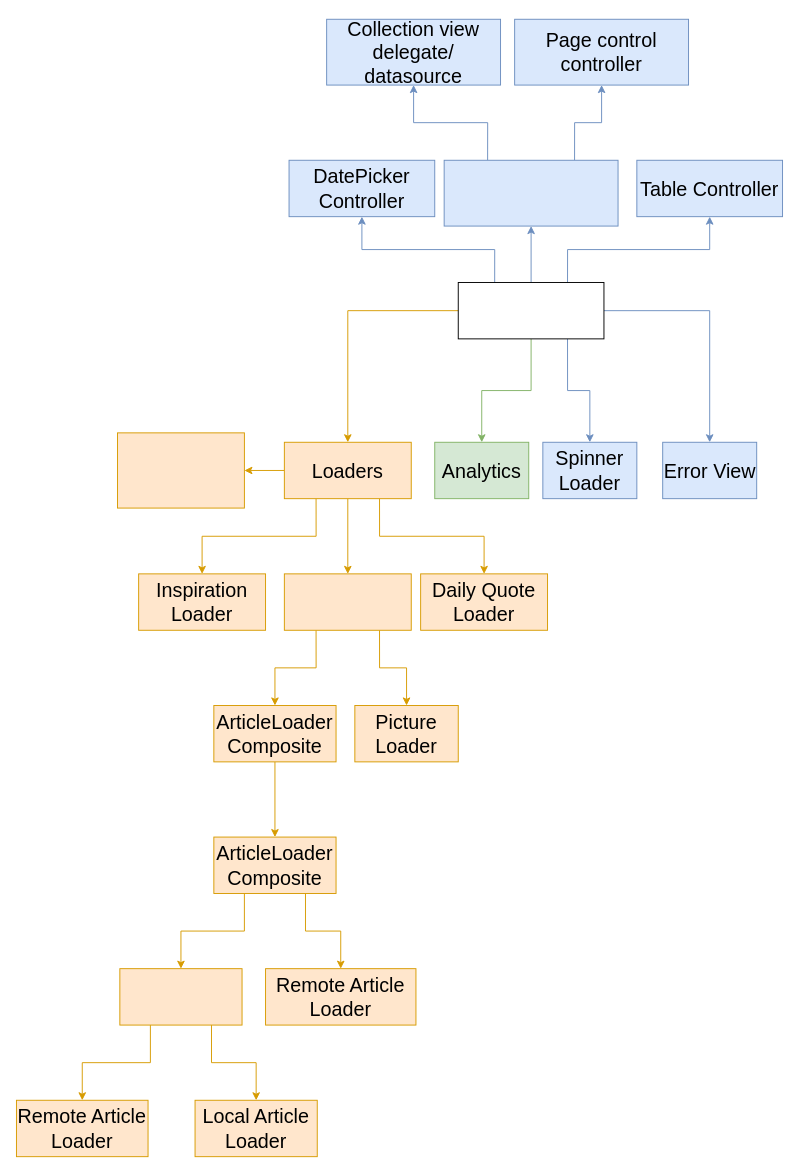
This 799x1173 diagram has some shape labels left out. Each missing label, with the box of its shape:
ArticlePicture Loader: (283, 573, 411, 630)
Cache Decorator: (119, 968, 242, 1025)
CollectionPage Controller: (443, 159, 618, 226)
Journal Loader (not done): (117, 432, 244, 508)
Main View Controller: (457, 282, 604, 339)
